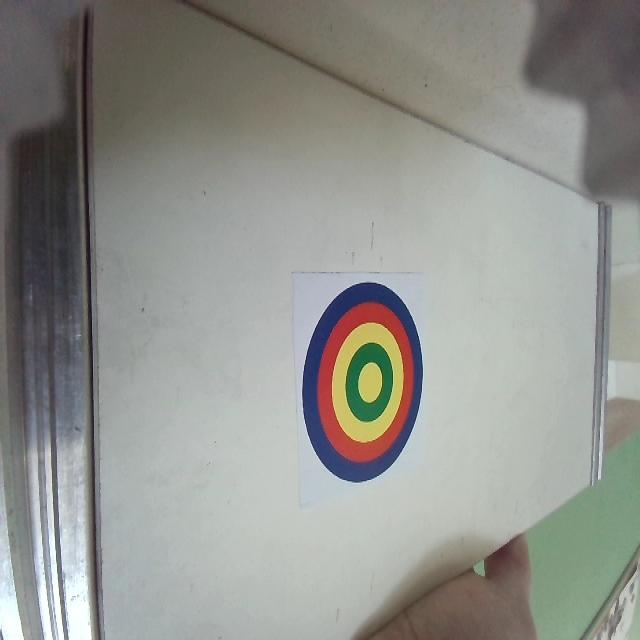cogn: (301, 280, 425, 486)
